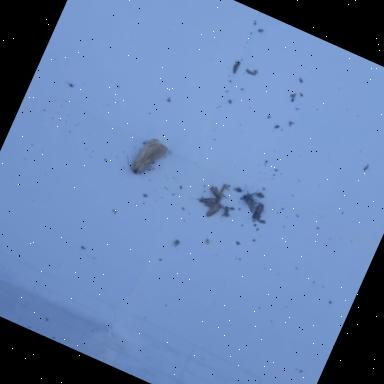pbw: (250, 202, 268, 222), (205, 200, 221, 219), (206, 185, 224, 201), (198, 193, 216, 207)
